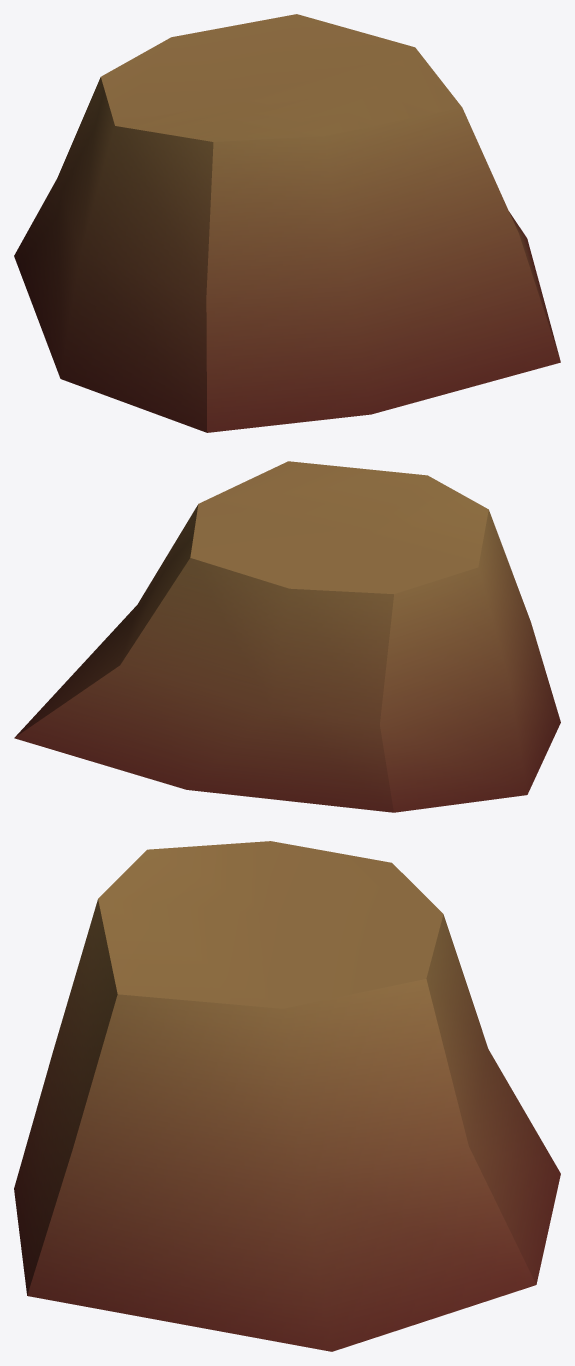
The model's file is Mountain_small.009.fbx.
3 views of the same model, one above another, from view 1: azimuth 30°, elevation 25°; view 2: azimuth 150°, elevation 25°; view 3: azimuth 270°, elevation 25° (orthographic). The views are drawn at different scales.
Visible parts, largest first — view 1: Mountain_small.009; view 2: Mountain_small.009; view 3: Mountain_small.009.
Boxes of the visible parts, <box> form: Mountain_small.009: <box>14,14,560,432</box>; Mountain_small.009: <box>14,461,560,812</box>; Mountain_small.009: <box>14,841,560,1351</box>.
Size of the model in its own units: 20.19 by 9.89 by 17.21.
